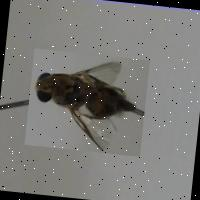Oriental-fruit-fly: (24, 48, 150, 156)
